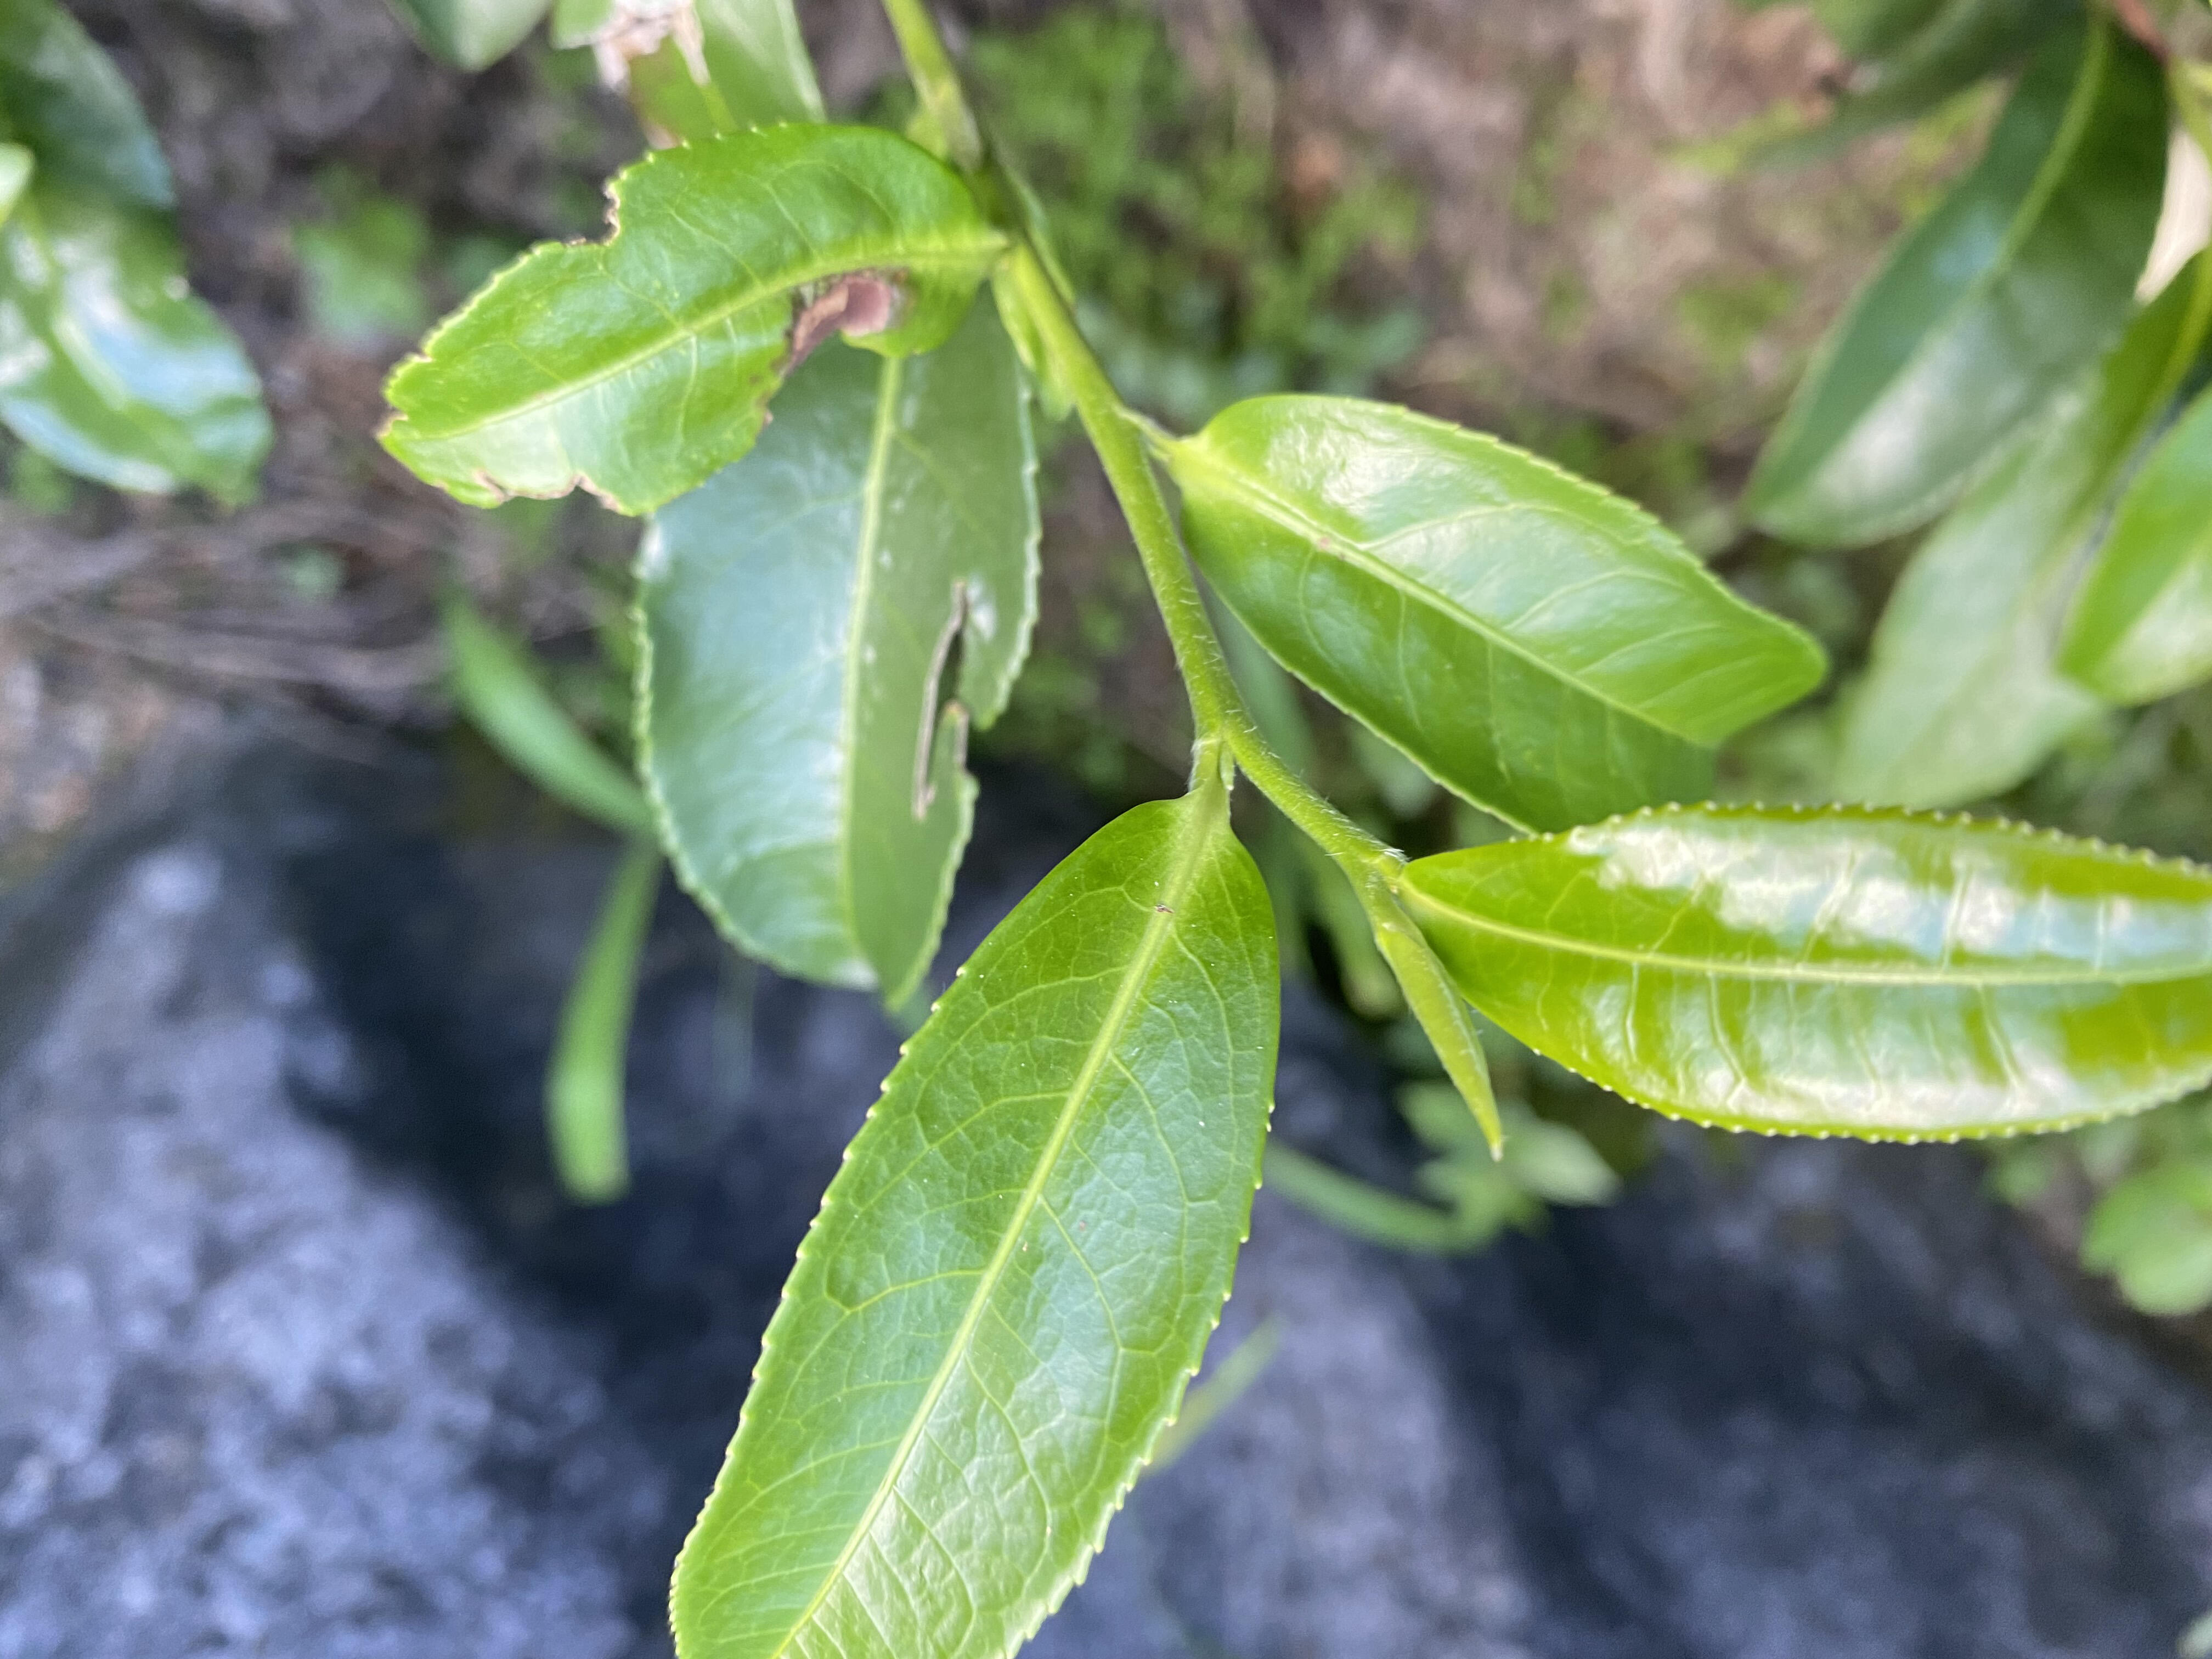chihuo_high: (617, 429, 1042, 1012)
healthy: (660, 795, 1284, 1657), (1176, 392, 1829, 840), (1402, 798, 2212, 1148)
tanju_high: (374, 119, 991, 523)
